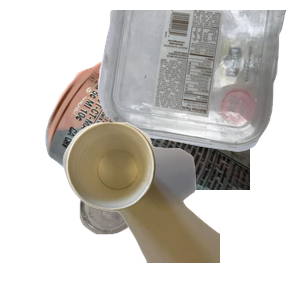glass: (77, 178, 205, 300)
metal: (43, 58, 283, 238)
plastic: (95, 10, 300, 154)
trash: (60, 120, 300, 300)
